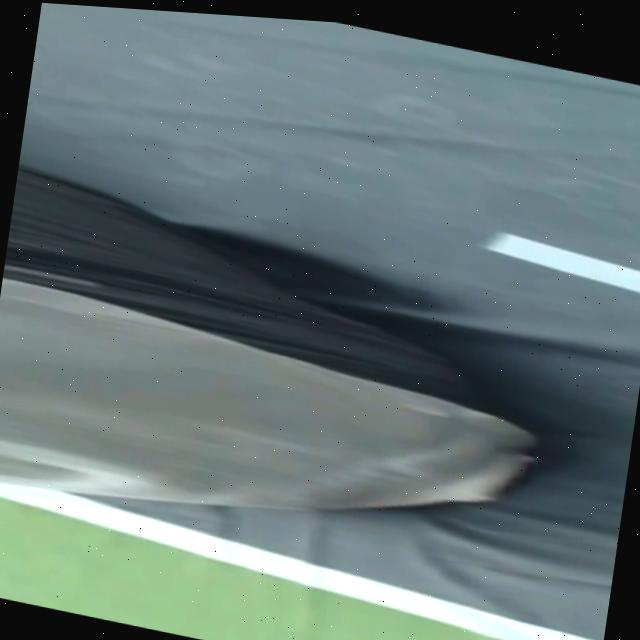center: (484, 232, 640, 291)
right: (0, 482, 601, 640)
